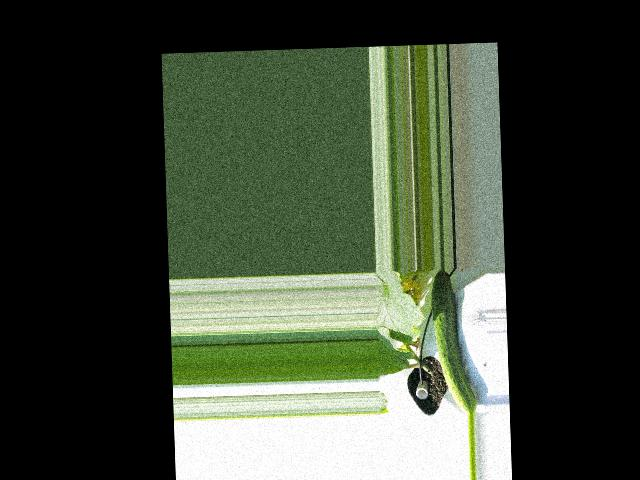cucumber: (430, 268, 477, 417)
